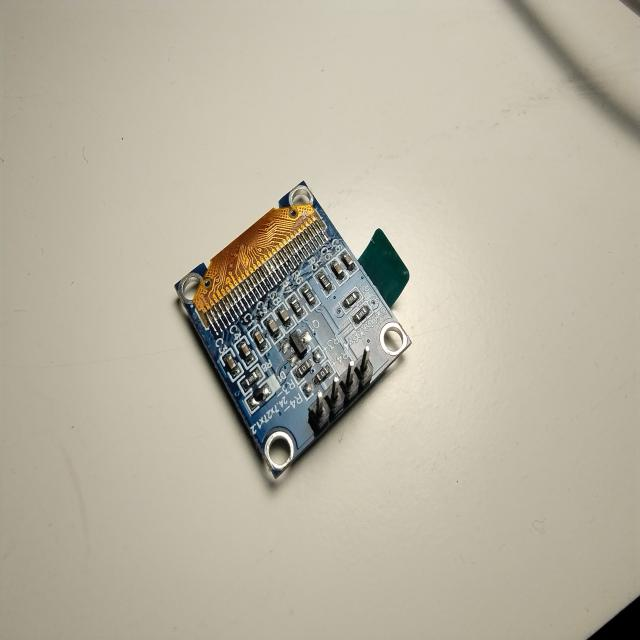oled: (168, 170, 424, 492)
